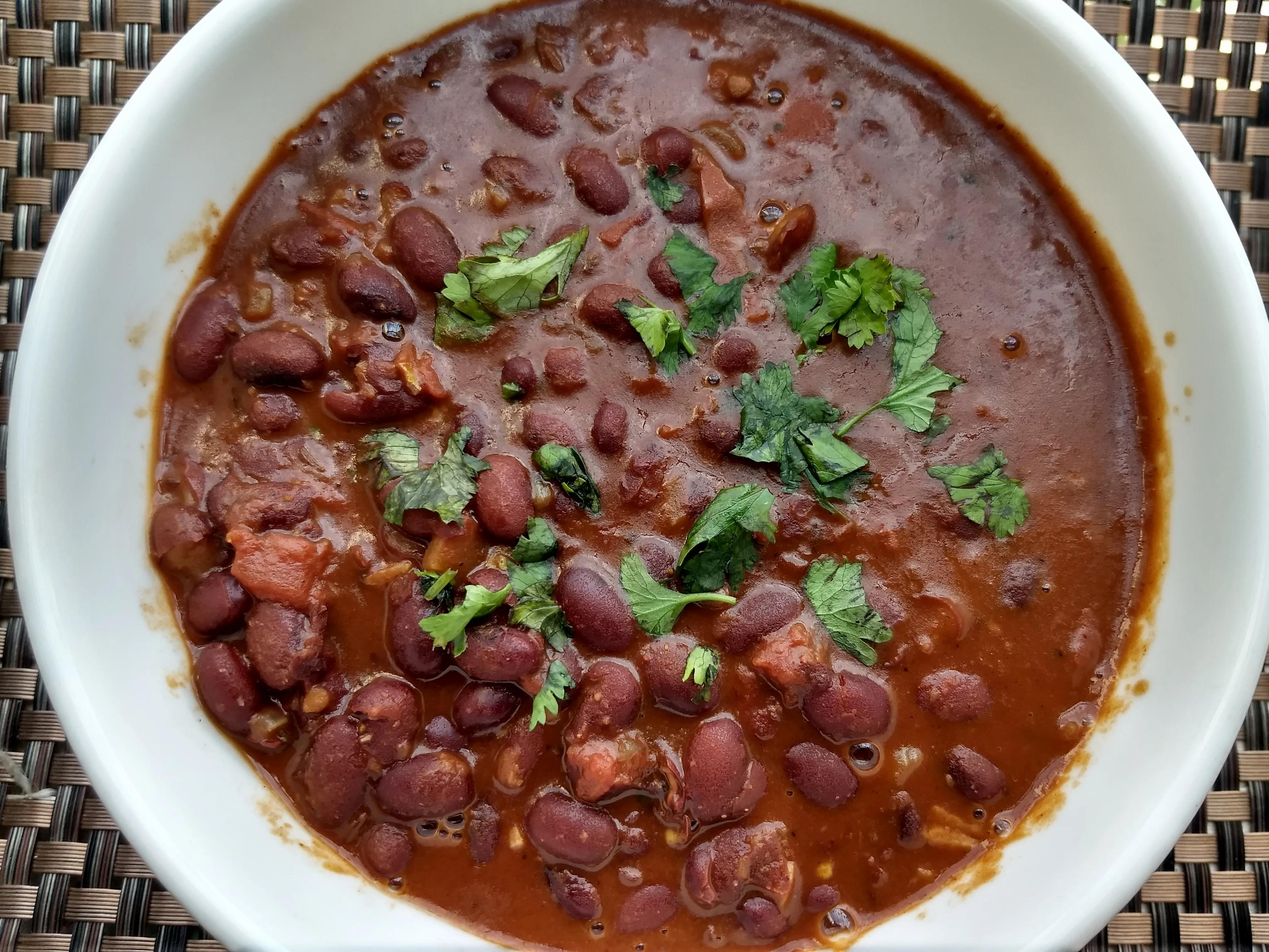RajmaCurry: (155, 0, 1155, 952)
